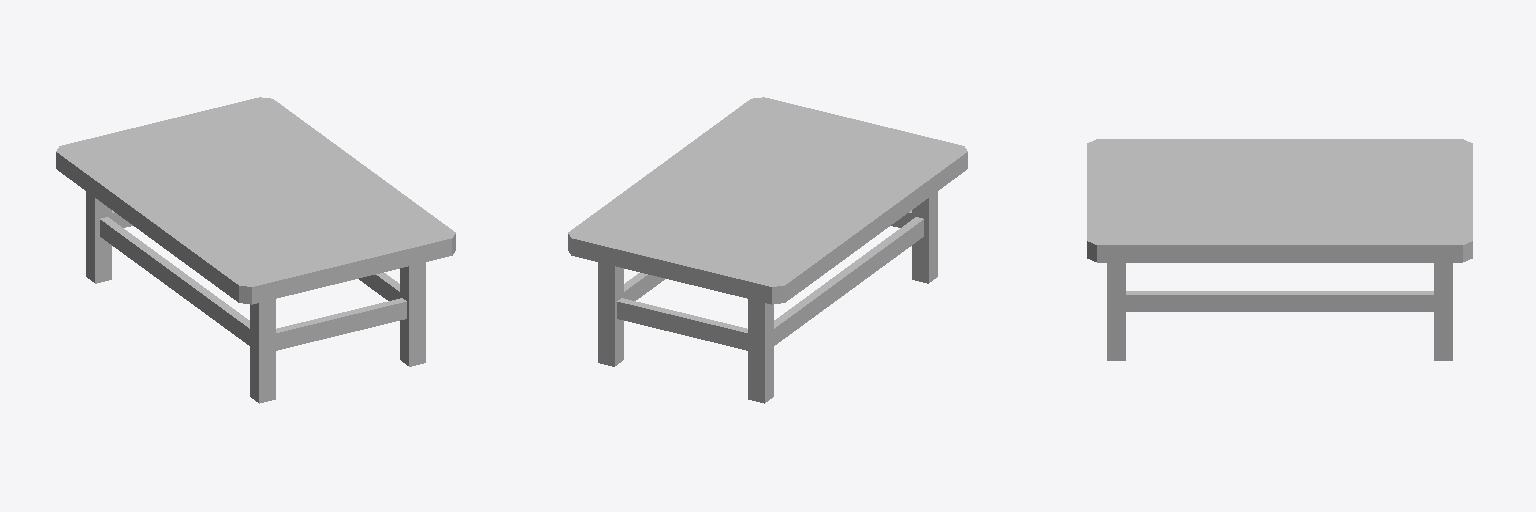
The model's file is stall.obj.
3 views of the same model, side by side, from view 1: azimuth 30°, elevation 25°; view 2: azimuth 150°, elevation 25°; view 3: azimuth 270°, elevation 25° (orthographic).
Visible parts, largest first — view 1: stall; view 2: stall; view 3: stall.
Boxes of the visible parts, <box> form: stall: <box>56,97,455,403</box>; stall: <box>568,97,967,403</box>; stall: <box>1087,139,1472,360</box>.
Size of the model in its own units: 0.65 by 0.3655 by 1.